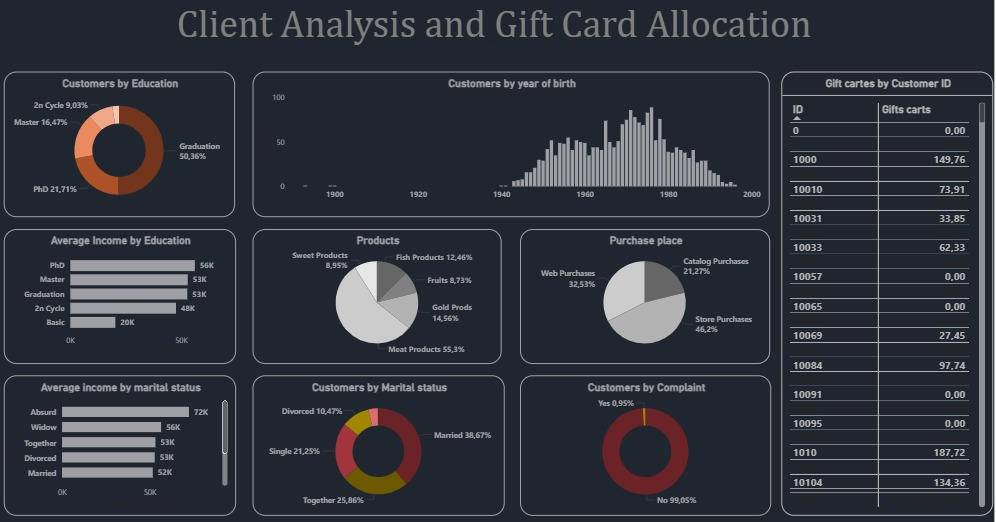

What the dashboard file says about the page in this screenshot:
{"tool":"powerbi","page":{"name":"Page 1","canvas":[1568,868],"ordinal":0},"visuals":[{"type":"clusteredBarChart","title":"Average Income by Education","fields":{"Category":["marketing_campaign.Education"],"Y":["Avg(marketing_campaign.Income)"]},"box":[13.3,401.1,364.7,212.2],"z":0},{"type":"clusteredBarChart","title":"Average income by marital status","fields":{"Y":["Avg(marketing_campaign.Income)"],"Category":["marketing_campaign.Marital_Status"]},"box":[13.3,629.9,364.7,220.4],"z":1000},{"type":"clusteredColumnChart","title":"Customers by year of birth ","fields":{"Category":["marketing_campaign.Year_Birth"],"Y":["CountNonNull(marketing_campaign.ID)"]},"box":[404.4,152.5,812.2,228.7],"z":2000},{"type":"donutChart","title":"Customers by Education","fields":{"Category":["marketing_campaign.Education"],"Y":["CountNonNull(marketing_campaign.ID)"]},"box":[13.3,152.5,363,228.7],"z":3000},{"type":"pieChart","title":"Purchase place","fields":{"Y":["Sum(marketing_campaign.NumCatalogPurchases)","Sum(marketing_campaign.NumStorePurchases)","Sum(marketing_campaign.NumWebPurchases)"]},"box":[823.8,401.1,392.8,212.2],"z":4000},{"type":"donutChart","title":"Customers by Marital status","fields":{"Y":["CountNonNull(marketing_campaign.ID)"],"Category":["marketing_campaign.Marital_Status"]},"box":[404.4,629.9,396.1,220.4],"z":5000},{"type":"donutChart","title":"Customers by Complaint","fields":{"Y":["CountNonNull(marketing_campaign.ID)"],"Category":["marketing_campaign.Complain"]},"box":[823.8,629.9,394.5,220.4],"z":6000},{"type":"pieChart","title":"Products","fields":{"Y":["Sum(marketing_campaign.MntFishProducts)","Sum(marketing_campaign.MntFruits)","Sum(marketing_campaign.MntGoldProds)","Sum(marketing_campaign.MntMeatProducts)","Sum(marketing_campaign.MntSweetProducts)"]},"box":[404.4,401.1,391.2,212.2],"z":7000},{"type":"card","fields":{"Values":["marketing_campaign.Title"]},"box":[0,44.8,1568,74.6],"z":8000},{"type":"actionButton","box":[0,0,100,40],"z":9000},{"type":"tableEx","title":"Gift cartes by Customer ID","fields":{"Values":["marketing_campaign.ID","marketing_campaign.Gifts carts"]},"box":[1234.8,152.5,333.2,697.8],"z":10000}]}

Visuals, with their boxes in screenshot pixels (x1, y1, x2, y2):
"Average Income by Education" clusteredBarChart: x1=1, y1=227, x2=233, y2=362
"Average income by marital status" clusteredBarChart: x1=1, y1=373, x2=233, y2=513
"Customers by year of birth " clusteredColumnChart: x1=250, y1=69, x2=767, y2=214
"Customers by Education" donutChart: x1=1, y1=69, x2=232, y2=214
"Purchase place" pieChart: x1=517, y1=227, x2=767, y2=362
"Customers by Marital status" donutChart: x1=250, y1=373, x2=502, y2=513
"Customers by Complaint" donutChart: x1=517, y1=373, x2=768, y2=513
"Products" pieChart: x1=250, y1=227, x2=499, y2=362
card - marketing_campaign.Title: x1=0, y1=0, x2=991, y2=47
"Gift cartes by Customer ID" tableEx: x1=778, y1=69, x2=991, y2=513
